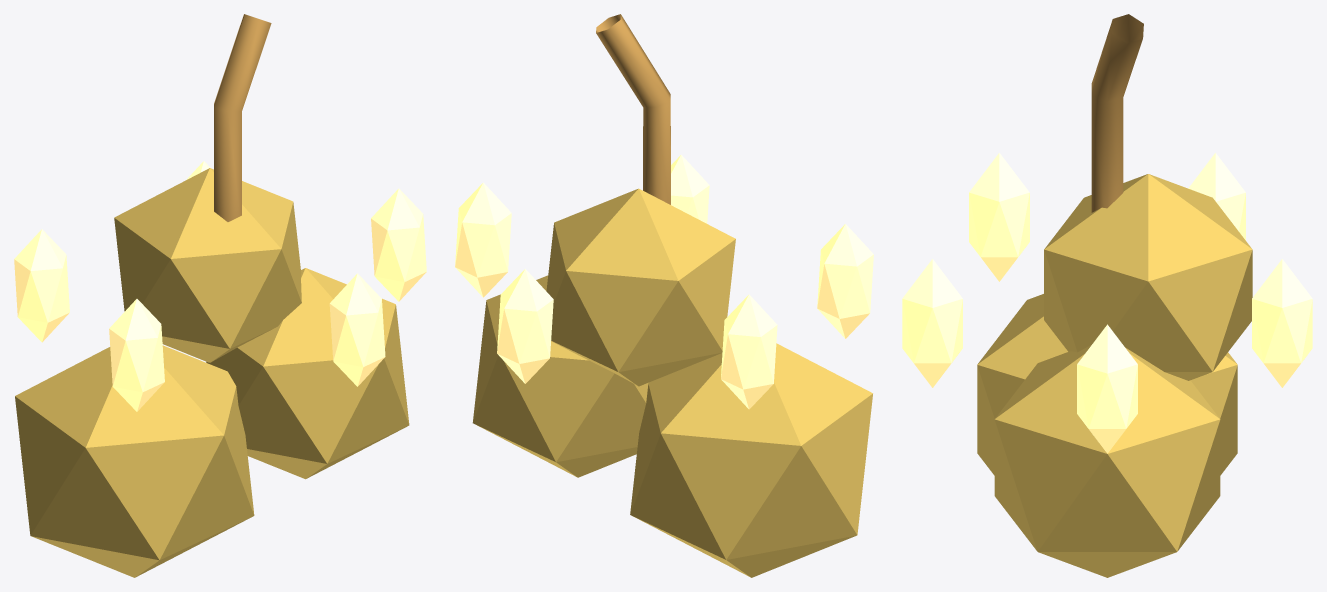
The model's file is food_pollen.glb.
The picture shows the model from 3 angles, left to right: view 1: azimuth 30°, elevation 25°; view 2: azimuth 150°, elevation 25°; view 3: azimuth 270°, elevation 25°; orthographic projection. The views are drawn at different scales.
Parts seen in each view (by area): view 1: Pollen grain 00, Pollen grain 02, Pollen grain 01, Pollen filament, Pollen spark 00, Pollen spark 02, Pollen spark 04, Pollen spark 03; view 2: Pollen grain 00, Pollen grain 02, Pollen grain 01, Pollen filament, Pollen spark 01, Pollen spark 00, Pollen spark 03, Pollen spark 02, Pollen spark 04; view 3: Pollen grain 01, Pollen grain 02, Pollen grain 00, Pollen filament, Pollen spark 00, Pollen spark 03, Pollen spark 01, Pollen spark 04, Pollen spark 02.
Boxes of the visible parts, x1=… form: Pollen grain 00: x1=15, y1=345, x2=254, y2=577; Pollen grain 02: x1=114, y1=168, x2=301, y2=362; Pollen grain 01: x1=206, y1=268, x2=409, y2=479; Pollen filament: x1=214, y1=14, x2=271, y2=221; Pollen spark 00: x1=371, y1=188, x2=426, y2=301; Pollen spark 02: x1=14, y1=229, x2=69, y2=342; Pollen spark 04: x1=329, y1=273, x2=385, y2=386; Pollen spark 03: x1=109, y1=299, x2=164, y2=411; Pollen grain 00: x1=630, y1=343, x2=872, y2=577; Pollen grain 02: x1=546, y1=188, x2=735, y2=386; Pollen grain 01: x1=472, y1=275, x2=648, y2=477; Pollen filament: x1=596, y1=14, x2=670, y2=204; Pollen spark 01: x1=497, y1=269, x2=553, y2=383; Pollen spark 00: x1=455, y1=182, x2=511, y2=297; Pollen spark 03: x1=817, y1=224, x2=873, y2=338; Pollen spark 02: x1=721, y1=294, x2=777, y2=409; Pollen spark 04: x1=671, y1=154, x2=709, y2=223; Pollen grain 01: x1=994, y1=344, x2=1220, y2=577; Pollen grain 02: x1=1044, y1=174, x2=1252, y2=380; Pollen grain 00: x1=977, y1=294, x2=1237, y2=475; Pollen filament: x1=1091, y1=14, x2=1143, y2=212; Pollen spark 00: x1=1077, y1=324, x2=1137, y2=453; Pollen spark 03: x1=969, y1=153, x2=1029, y2=281; Pollen spark 01: x1=1252, y1=259, x2=1312, y2=387; Pollen spark 04: x1=902, y1=259, x2=962, y2=387; Pollen spark 02: x1=1188, y1=153, x2=1245, y2=240.
Bounding box in the file's own units: 0.5055 × 0.6486 × 0.4019.
